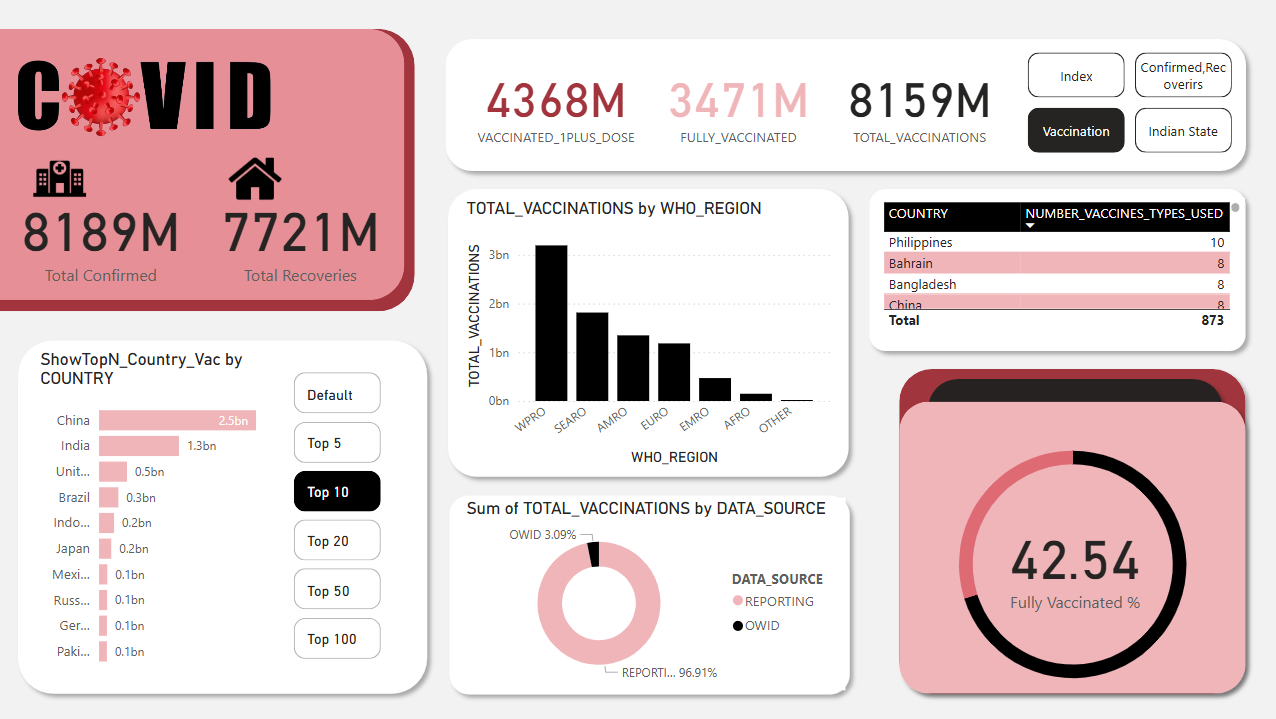

The page's visual inventory and layout, read from the dashboard file:
{"tool":"powerbi","page":{"name":"Vaccination","canvas":[1280,720],"ordinal":2},"visuals":[{"type":"group","id":"g1","title":"Group 2","box":[0,28.6,415.7,282.9],"z":0},{"type":"shape","box":[0,28.8,415.7,282.7],"z":0,"group":"g1"},{"type":"shape","box":[437.1,30,818.6,150],"z":0,"group":"g3"},{"type":"shape","box":[0,28.8,405.5,271.4],"z":1000,"group":"g1"},{"type":"group","id":"g2","title":"Group 1","box":[462.8,42.9,551.4,121.4],"z":1000,"group":"g3"},{"type":"shape","box":[891.4,360,364.3,342.9],"z":1000},{"type":"image","box":[0,28.6,289.4,150.1],"z":2000,"group":"g1"},{"type":"pageNavigator","box":[1028.5,52.9,204.3,101.4],"z":2000,"group":"g3"},{"type":"shape","box":[920,370,312.9,321.4],"z":2000},{"type":"card","fields":{"Values":["Measures_Table.Total Confirmed"]},"box":[12.8,178.9,179.1,115.1],"z":3000,"group":"g1"},{"type":"shape","box":[891.4,392.9,364.3,310],"z":3000},{"type":"card","fields":{"Values":["Measures_Table.Total Recoveries"]},"box":[203.4,178.9,195.7,115.1],"z":4000,"group":"g1"},{"type":"shape","box":[10,331.4,427.1,371.4],"z":4000},{"type":"image","box":[17.5,147.2,86.2,62.9],"z":5000,"group":"g1"},{"type":"shape","box":[440,180,418.6,305.7],"z":5000},{"type":"image","box":[222.2,147.2,67.2,62.9],"z":6000,"group":"g1"},{"type":"shape","box":[441.4,485.7,418.6,217.1],"z":6000},{"type":"shape","box":[861.4,180,394.3,180],"z":7000},{"type":"card","fields":{"Values":["Measures_Table.Fully Vaccinated %"]},"box":[986.2,486.2,180,155],"z":8000},{"type":"donutChart","fields":{"Y":["Sum(vaccination-data.TOTAL_VACCINATIONS)","Sum(vaccination-data.PERSONS_FULLY_VACCINATED)"]},"box":[867.1,417.1,412.9,294.3],"z":9000},{"type":"clusteredColumnChart","fields":{"Category":["vaccination-data.WHO_REGION"],"Y":["Sum(vaccination-data.TOTAL_VACCINATIONS)"]},"box":[462.5,197.5,373.8,272.5],"z":10000},{"type":"clusteredBarChart","fields":{"Category":["vaccination-data.COUNTRY"],"Y":["Measures_Table.ShowTopN_Country_Vac"]},"box":[35.7,348.6,254.3,328.6],"z":11000},{"type":"advancedSlicerVisual","fields":{"Values":["Rank_Table.Option"]},"box":[290,367.1,97.1,300],"z":12000},{"type":"donutChart","fields":{"Category":["vaccination-data.DATA_SOURCE"],"Y":["Sum(vaccination-data.TOTAL_VACCINATIONS)"]},"box":[462.9,497.1,384.3,192.9],"z":13000},{"type":"tableEx","fields":{"Values":["vaccination-data.COUNTRY","Sum(vaccination-data.NUMBER_VACCINES_TYPES_USED)"]},"box":[878.6,197.1,367.1,137.1],"z":14000},{"type":"group","id":"g3","title":"Group 3","box":[437.1,30,818.6,150],"z":15000},{"type":"card","fields":{"Values":["Sum(vaccination-data.TOTAL_VACCINATIONS)"]},"box":[827.1,42.9,187.1,121.4],"z":16000,"group":"g2"},{"type":"card","fields":{"Values":["Sum(vaccination-data.PERSONS_VACCINATED_1PLUS_DOSE)"]},"box":[462.8,42.9,187.1,121.4],"z":17000,"group":"g2"},{"type":"card","fields":{"Values":["Sum(vaccination-data.PERSONS_FULLY_VACCINATED)"]},"box":[649.9,42.9,177.1,121.4],"z":18000,"group":"g2"}]}

Visuals, with their boxes in screenshot pixels (x1, y1, x2, y2), scaled from the page's 1280x720 canvas onto the 1276x719 screenshot:
"Group 2" group: x1=0, y1=29, x2=414, y2=311
shape: x1=0, y1=29, x2=414, y2=311
shape: x1=436, y1=30, x2=1252, y2=180
shape: x1=0, y1=29, x2=404, y2=300
"Group 1" group: x1=461, y1=43, x2=1011, y2=164
shape: x1=889, y1=360, x2=1252, y2=702
image: x1=0, y1=29, x2=288, y2=178
pageNavigator: x1=1025, y1=53, x2=1229, y2=154
shape: x1=917, y1=369, x2=1229, y2=690
card - Measures_Table.Total Confirmed: x1=13, y1=179, x2=191, y2=294
shape: x1=889, y1=392, x2=1252, y2=702
card - Measures_Table.Total Recoveries: x1=203, y1=179, x2=398, y2=294
shape: x1=10, y1=331, x2=436, y2=702
image: x1=17, y1=147, x2=103, y2=210
shape: x1=439, y1=180, x2=856, y2=485
image: x1=222, y1=147, x2=288, y2=210
shape: x1=440, y1=485, x2=857, y2=702
shape: x1=859, y1=180, x2=1252, y2=360
card - Measures_Table.Fully Vaccinated %: x1=983, y1=486, x2=1163, y2=640
donutChart - Sum(vaccination-data.TOTAL_VACCINATIONS) x Sum(vaccination-data.PERSONS_FULLY_VACCINATED): x1=864, y1=417, x2=1275, y2=710
clusteredColumnChart - vaccination-data.WHO_REGION x Sum(vaccination-data.TOTAL_VACCINATIONS): x1=461, y1=197, x2=834, y2=469
clusteredBarChart - vaccination-data.COUNTRY x Measures_Table.ShowTopN_Country_Vac: x1=36, y1=348, x2=289, y2=676
advancedSlicerVisual - Rank_Table.Option: x1=289, y1=367, x2=386, y2=666
donutChart - vaccination-data.DATA_SOURCE x Sum(vaccination-data.TOTAL_VACCINATIONS): x1=461, y1=496, x2=845, y2=689
tableEx - vaccination-data.COUNTRY x Sum(vaccination-data.NUMBER_VACCINES_TYPES_USED): x1=876, y1=197, x2=1242, y2=334
"Group 3" group: x1=436, y1=30, x2=1252, y2=180
card - Sum(vaccination-data.TOTAL_VACCINATIONS): x1=825, y1=43, x2=1011, y2=164
card - Sum(vaccination-data.PERSONS_VACCINATED_1PLUS_DOSE): x1=461, y1=43, x2=648, y2=164
card - Sum(vaccination-data.PERSONS_FULLY_VACCINATED): x1=648, y1=43, x2=824, y2=164
